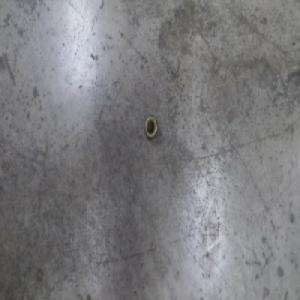Nut: (143, 113, 158, 142)
